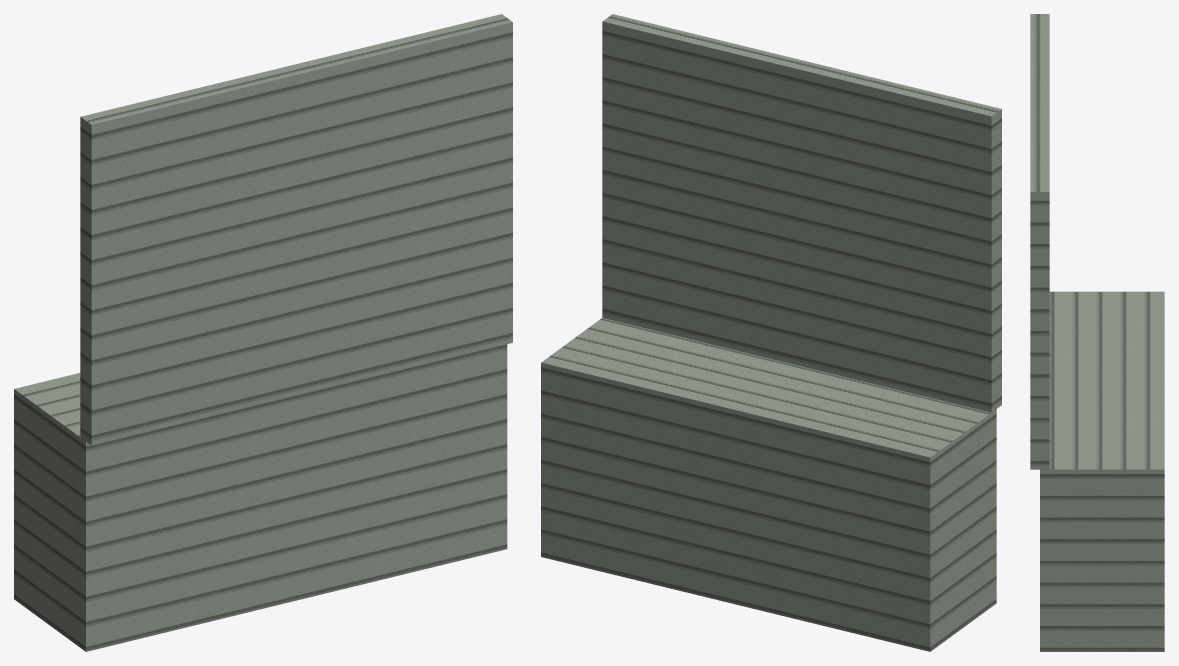
Rendered from soda_fountain_counter.glb.
3 renders of one model, left to right at view 1: azimuth 30°, elevation 25°; view 2: azimuth 150°, elevation 25°; view 3: azimuth 270°, elevation 25°, orthographic. The views are drawn at different scales.
Visible parts, largest first — view 1: soda_fountain_counter-col; view 2: soda_fountain_counter-col; view 3: soda_fountain_counter-col.
Boxes of the visible parts, x1,y1,x2,y2 form: soda_fountain_counter-col: (14,14,512,651); soda_fountain_counter-col: (541,14,1001,651); soda_fountain_counter-col: (1030,14,1164,651).
Size of the model in its own units: 2.2 by 2.65 by 0.7.
1 material, 1 textured.
